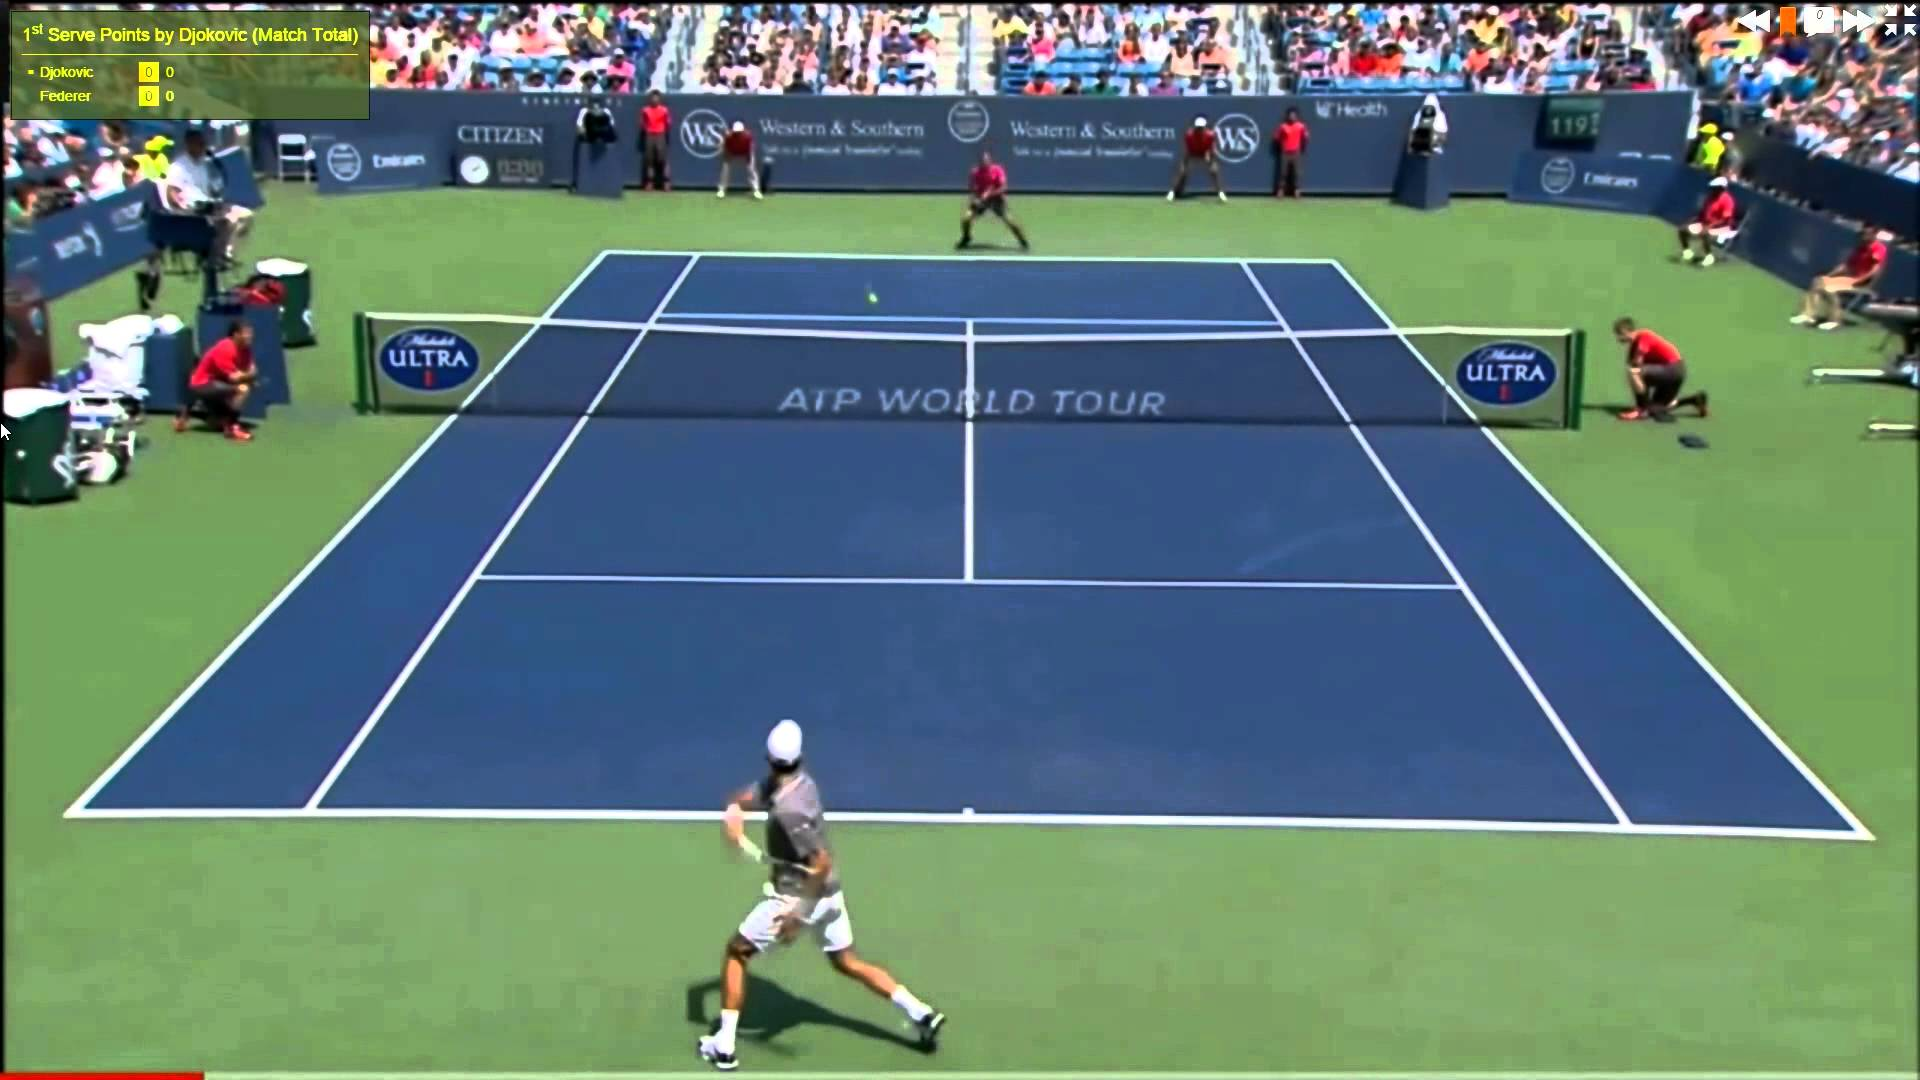tennis ball: (862, 293, 883, 305)
tennis player: (689, 716, 950, 1070), (956, 155, 1035, 260)
